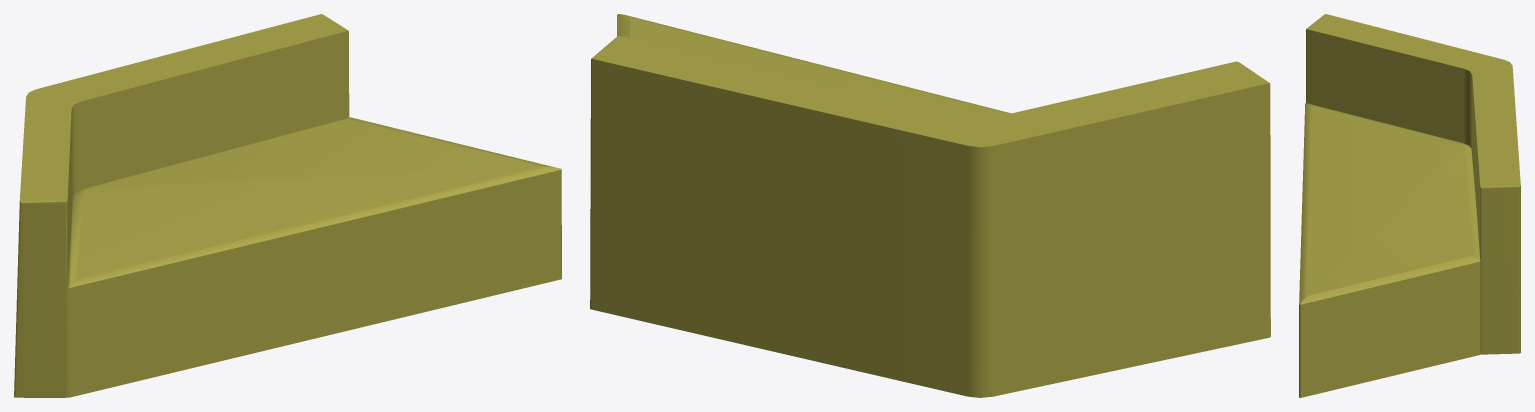
File: canap_tri3.fbx
3 views of the same model, side by side, from view 1: azimuth 30°, elevation 25°; view 2: azimuth 150°, elevation 25°; view 3: azimuth 270°, elevation 25° (orthographic). The views are drawn at different scales.
Visible parts, largest first — view 1: canap_tri3; view 2: canap_tri3; view 3: canap_tri3.
Part boxes in pixels (box(x1,y1,x2,y2)): canap_tri3: box(14, 14, 561, 397); canap_tri3: box(590, 14, 1270, 397); canap_tri3: box(1299, 14, 1520, 397).
Size of the model in its own units: 282 by 101 by 120.
